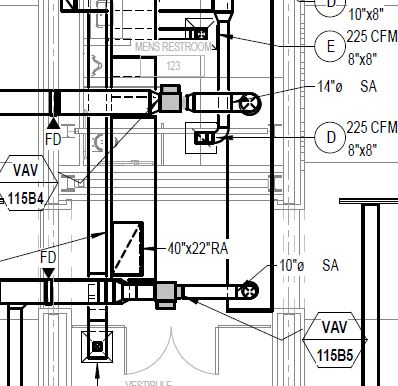VAV: (155, 65, 196, 120), (151, 272, 187, 315)
